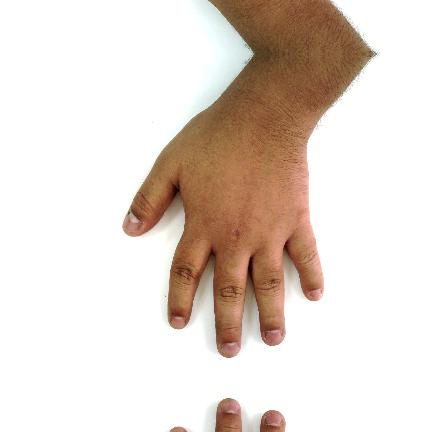Nail: (122, 211, 141, 234), (221, 343, 240, 358), (221, 398, 240, 413), (265, 330, 282, 343), (265, 413, 282, 426), (171, 317, 186, 330), (309, 288, 323, 301), (171, 426, 186, 432)
